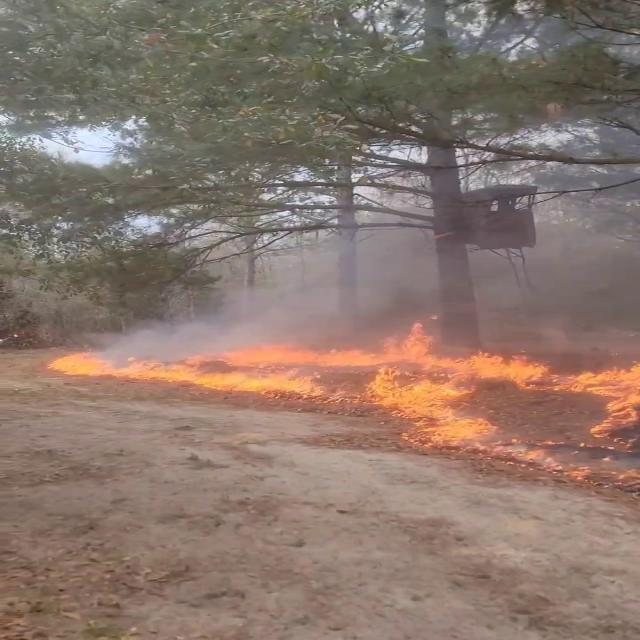Fire: (36, 322, 637, 446)
Smoke: (169, 183, 640, 345)
